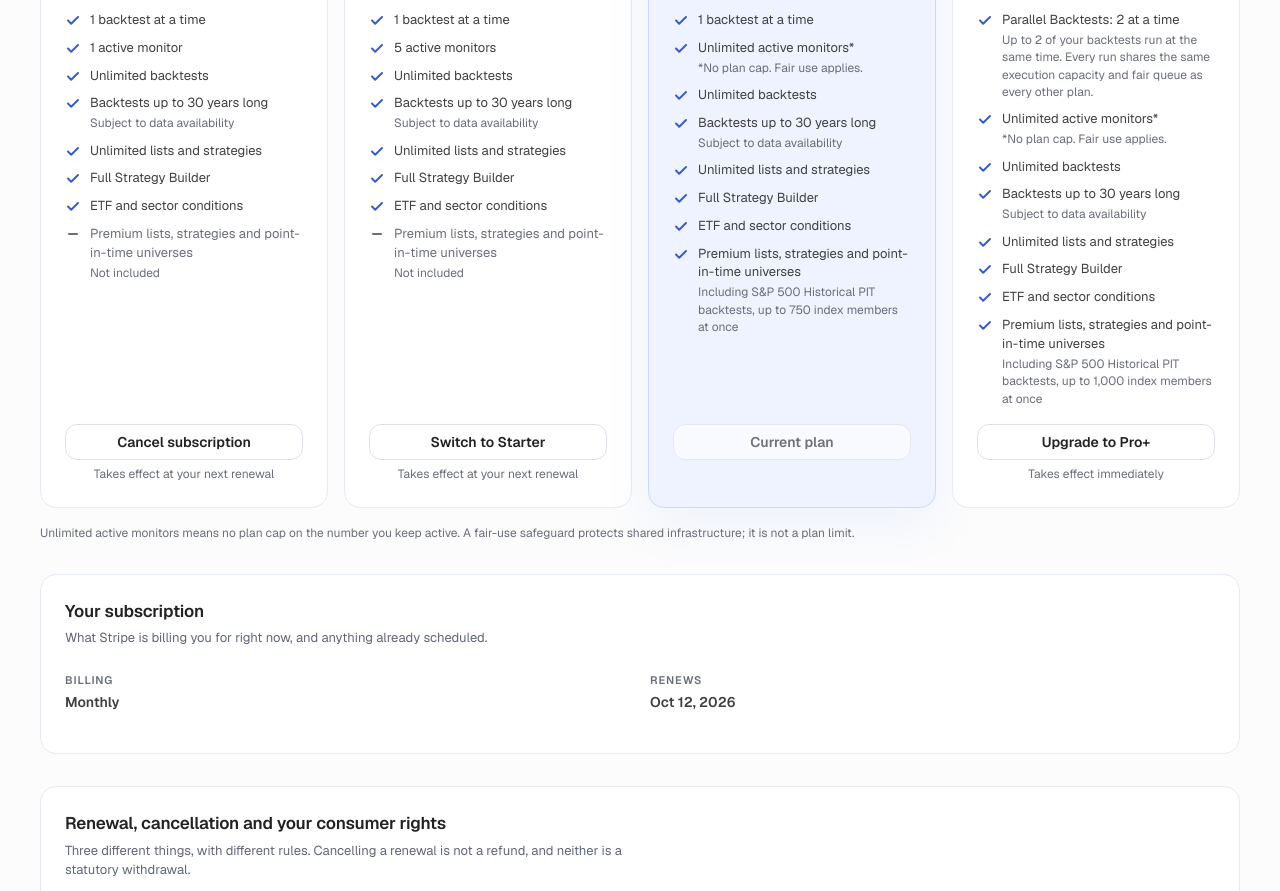
BillingPage › surfaces the API's own refusal message
(page scrolled)
Click the button with test id "plan-action-STARTER" at (488, 442), box [369, 424, 607, 460]
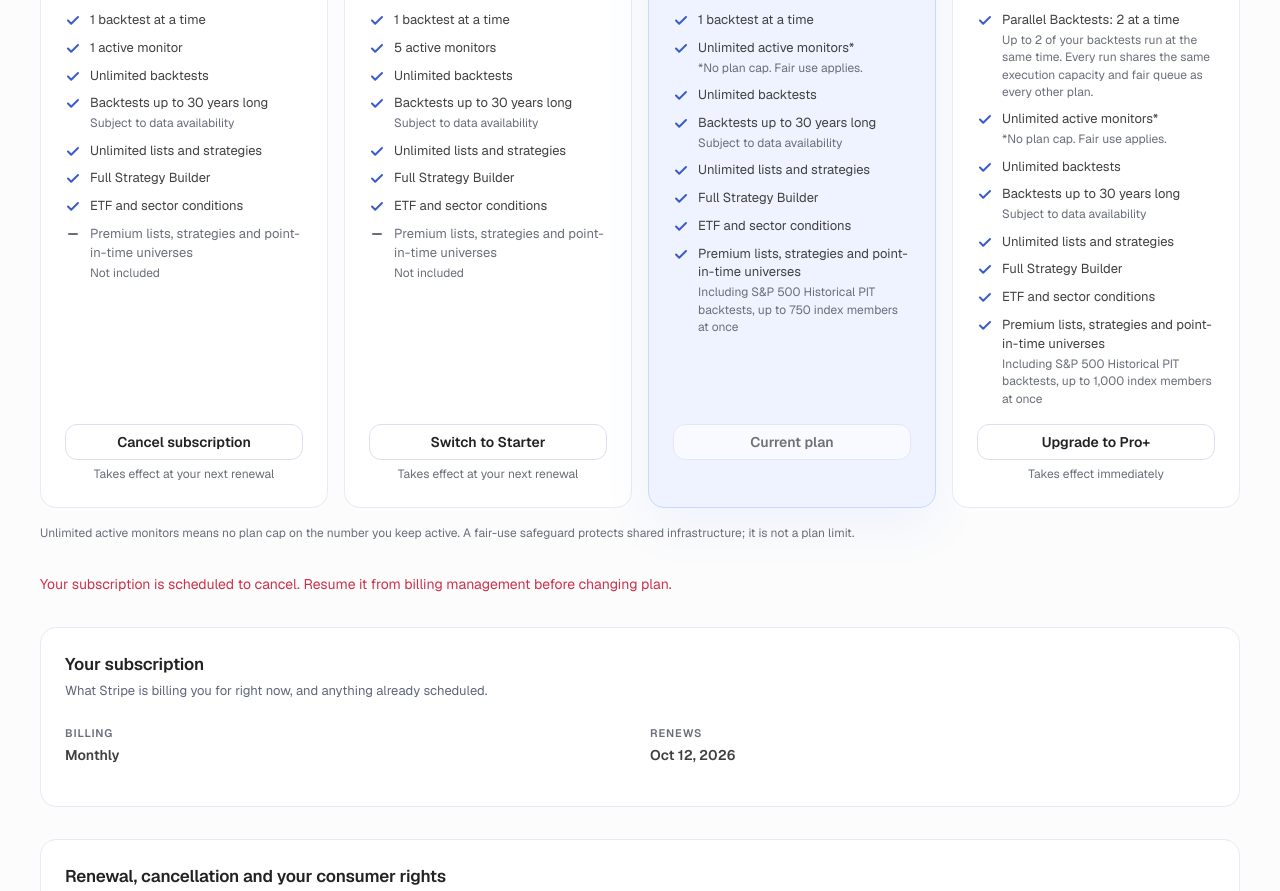
Check: the message with test id "billing-action-error" shows "scheduled to cancel", box [40, 575, 672, 593]
